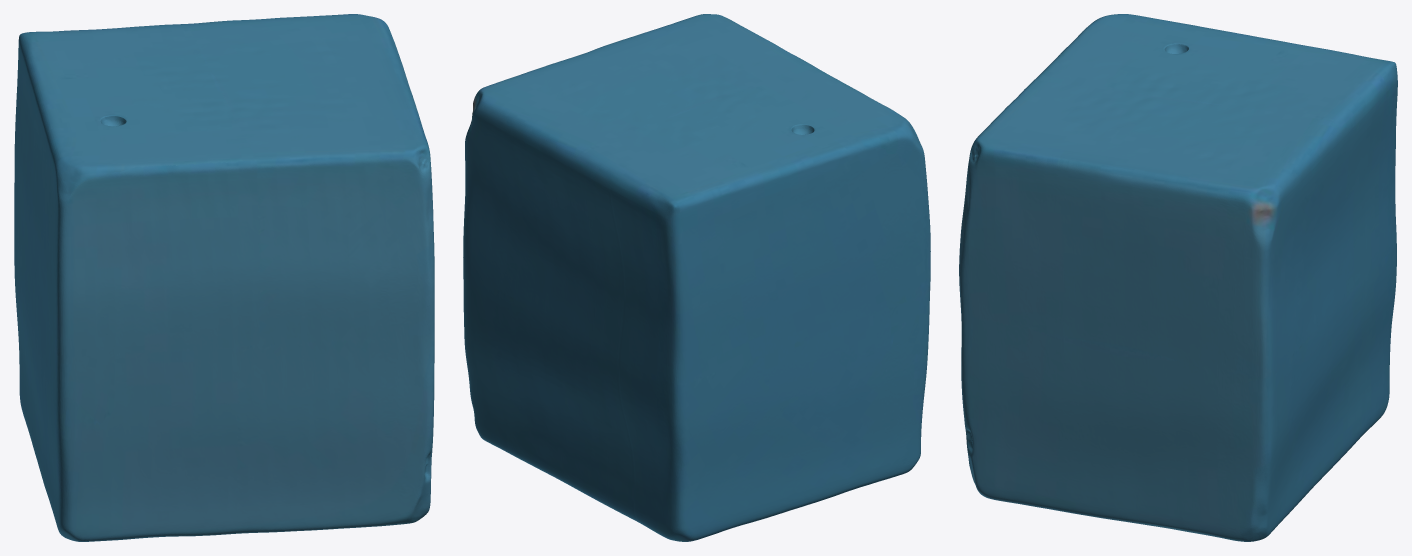
The model's file is block_01.glb.
3 views of the same model, side by side, from view 1: azimuth 30°, elevation 25°; view 2: azimuth 150°, elevation 25°; view 3: azimuth 270°, elevation 25° (orthographic). The views are drawn at different scales.
Parts seen in each view (by area): view 1: block_01; view 2: block_01; view 3: block_01.
Part boxes in pixels (x1=…): block_01: x1=14, y1=14, x2=434, y2=541; block_01: x1=463, y1=14, x2=930, y2=541; block_01: x1=959, y1=14, x2=1397, y2=541.
Bounding box in the file's own units: 0.275 × 0.2375 × 0.2665.
1 material, 1 textured.
